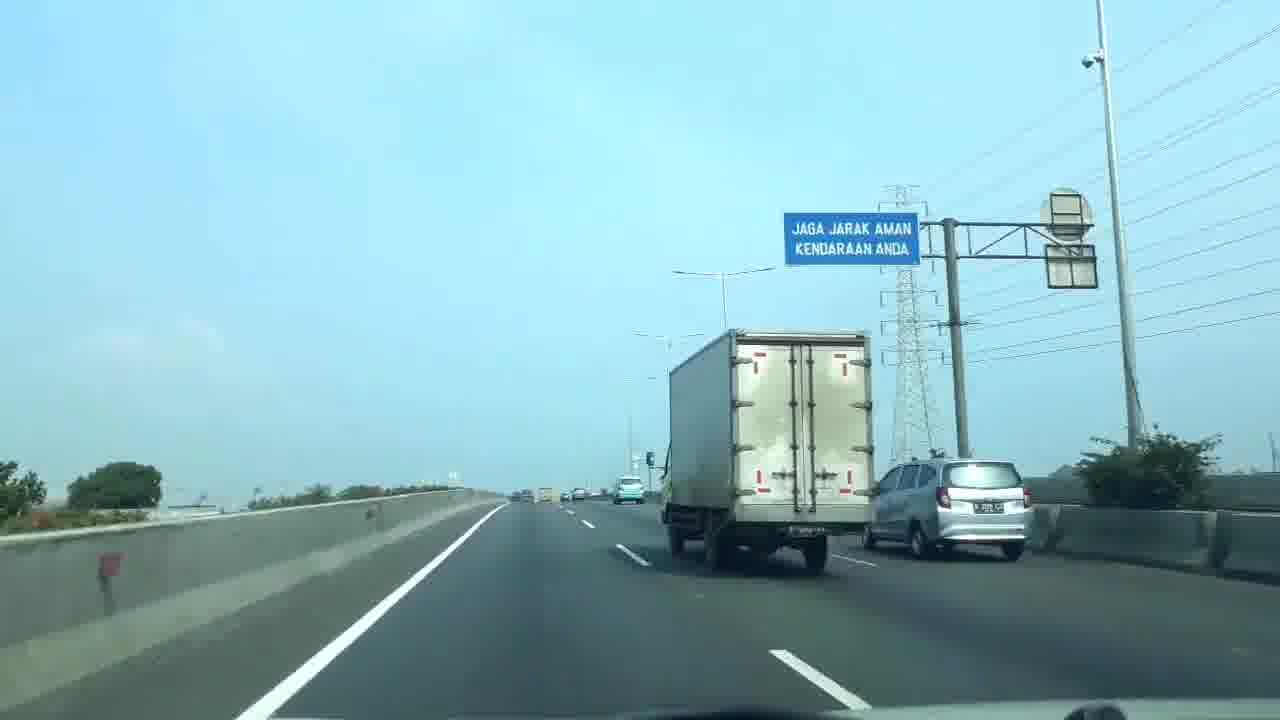plate_positive: (783, 524, 825, 537), (973, 501, 1004, 514)
